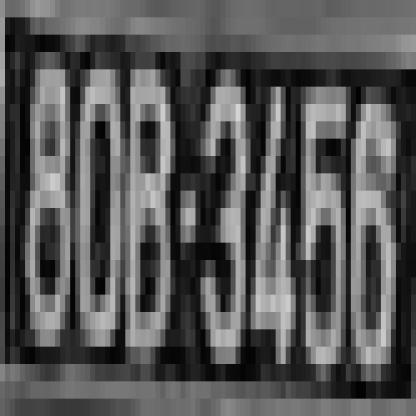0: (80, 70, 120, 330)
3: (200, 69, 245, 347)
4: (250, 87, 290, 329)
5: (296, 86, 341, 346)
6: (346, 104, 391, 347)
8: (25, 52, 70, 329)
B: (130, 69, 170, 347)
